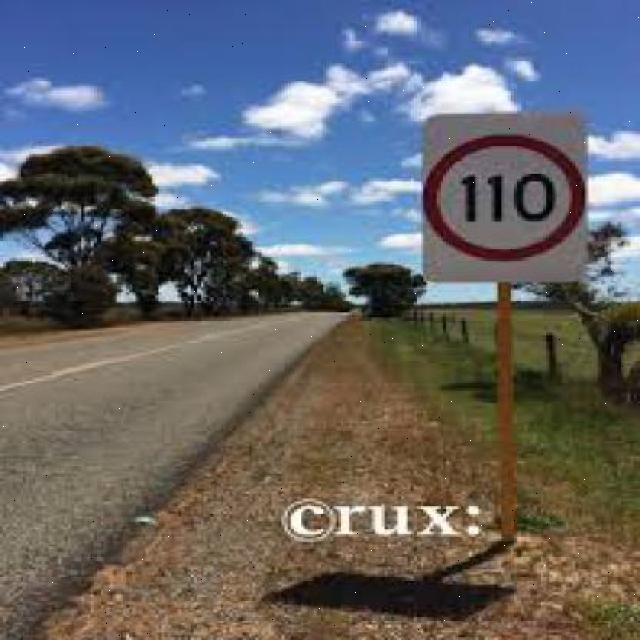speed limit 110: (422, 131, 587, 260)
